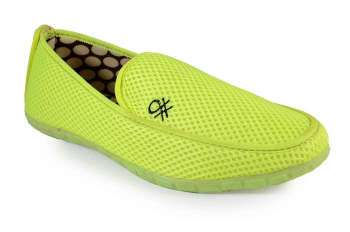Footwear: (22, 21, 333, 196)
